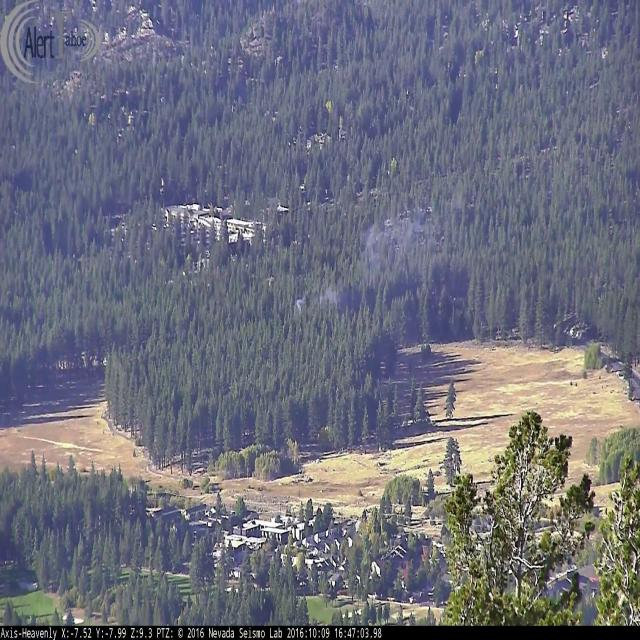smoke: (293, 203, 434, 328)
